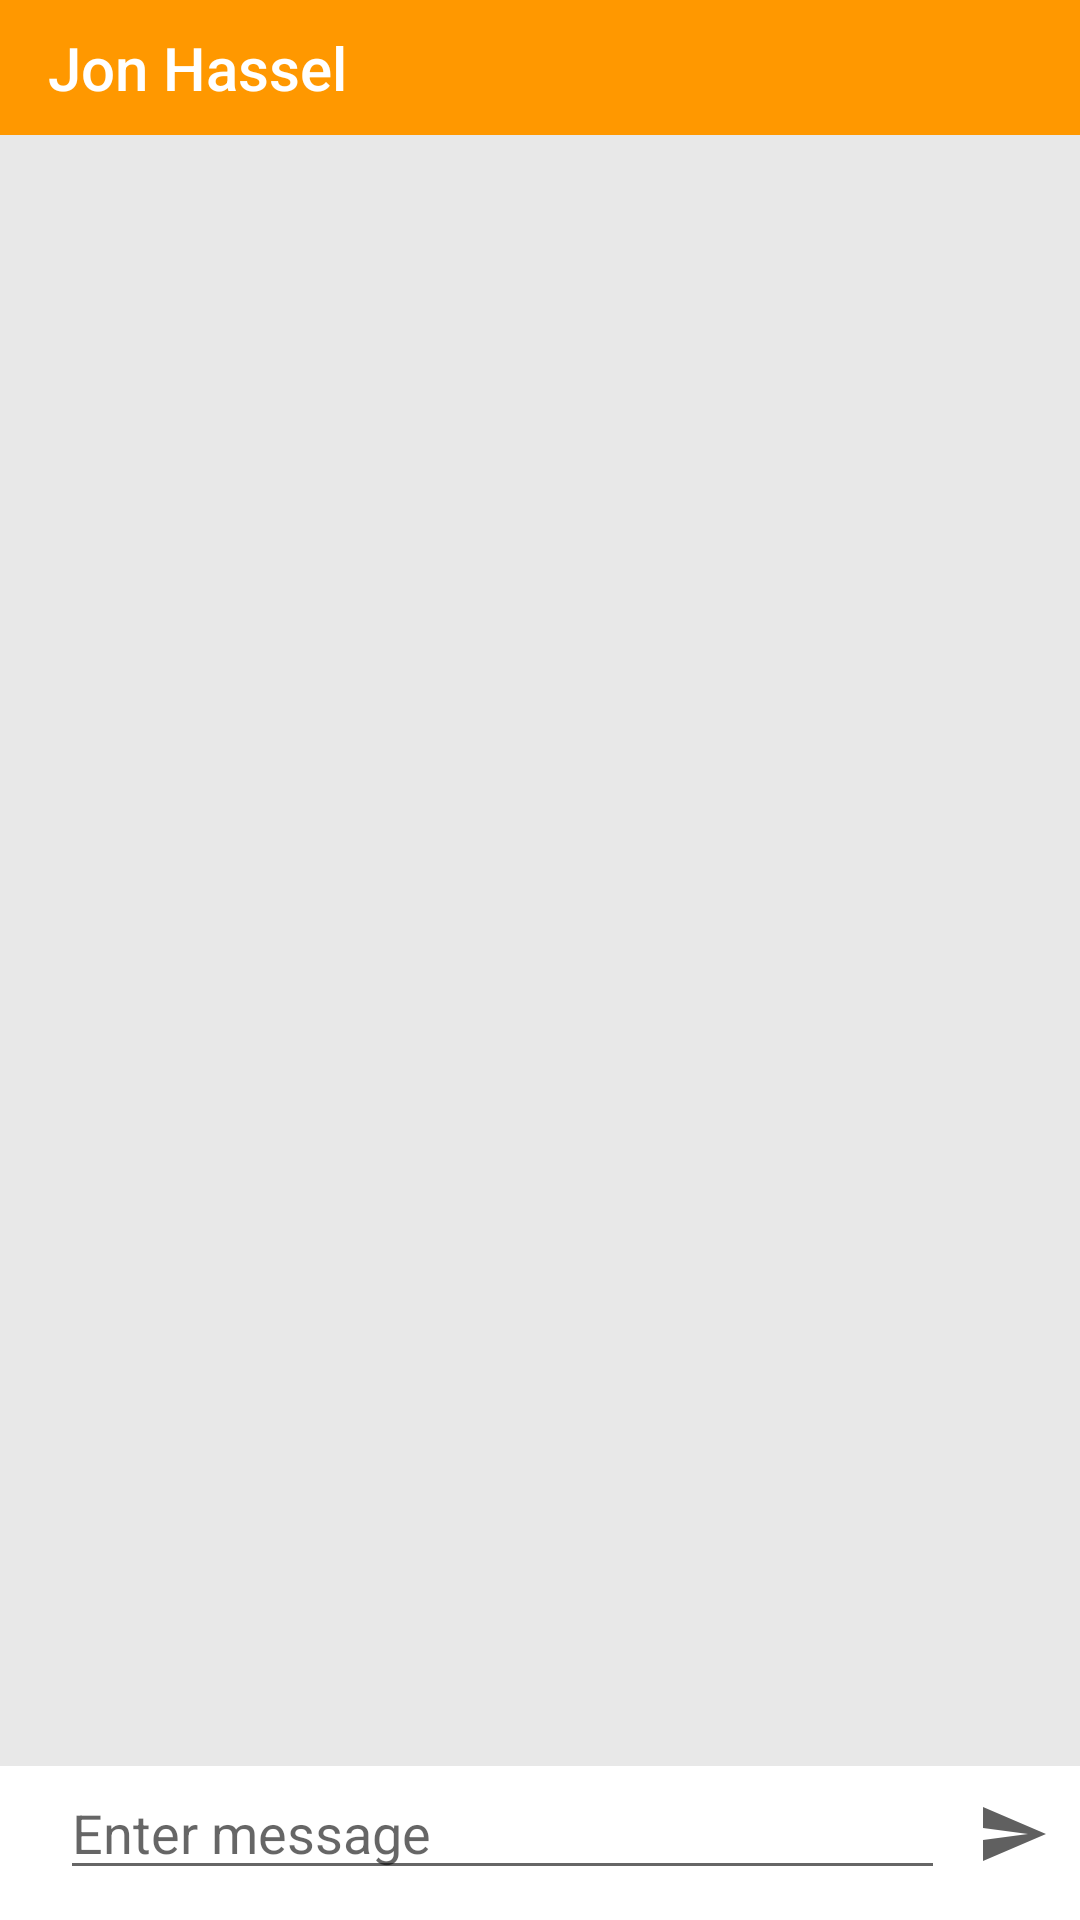

Icons on this 1080x1920 Android screen, each with the point to tap as [x,y]:
send: [1014,1834]
